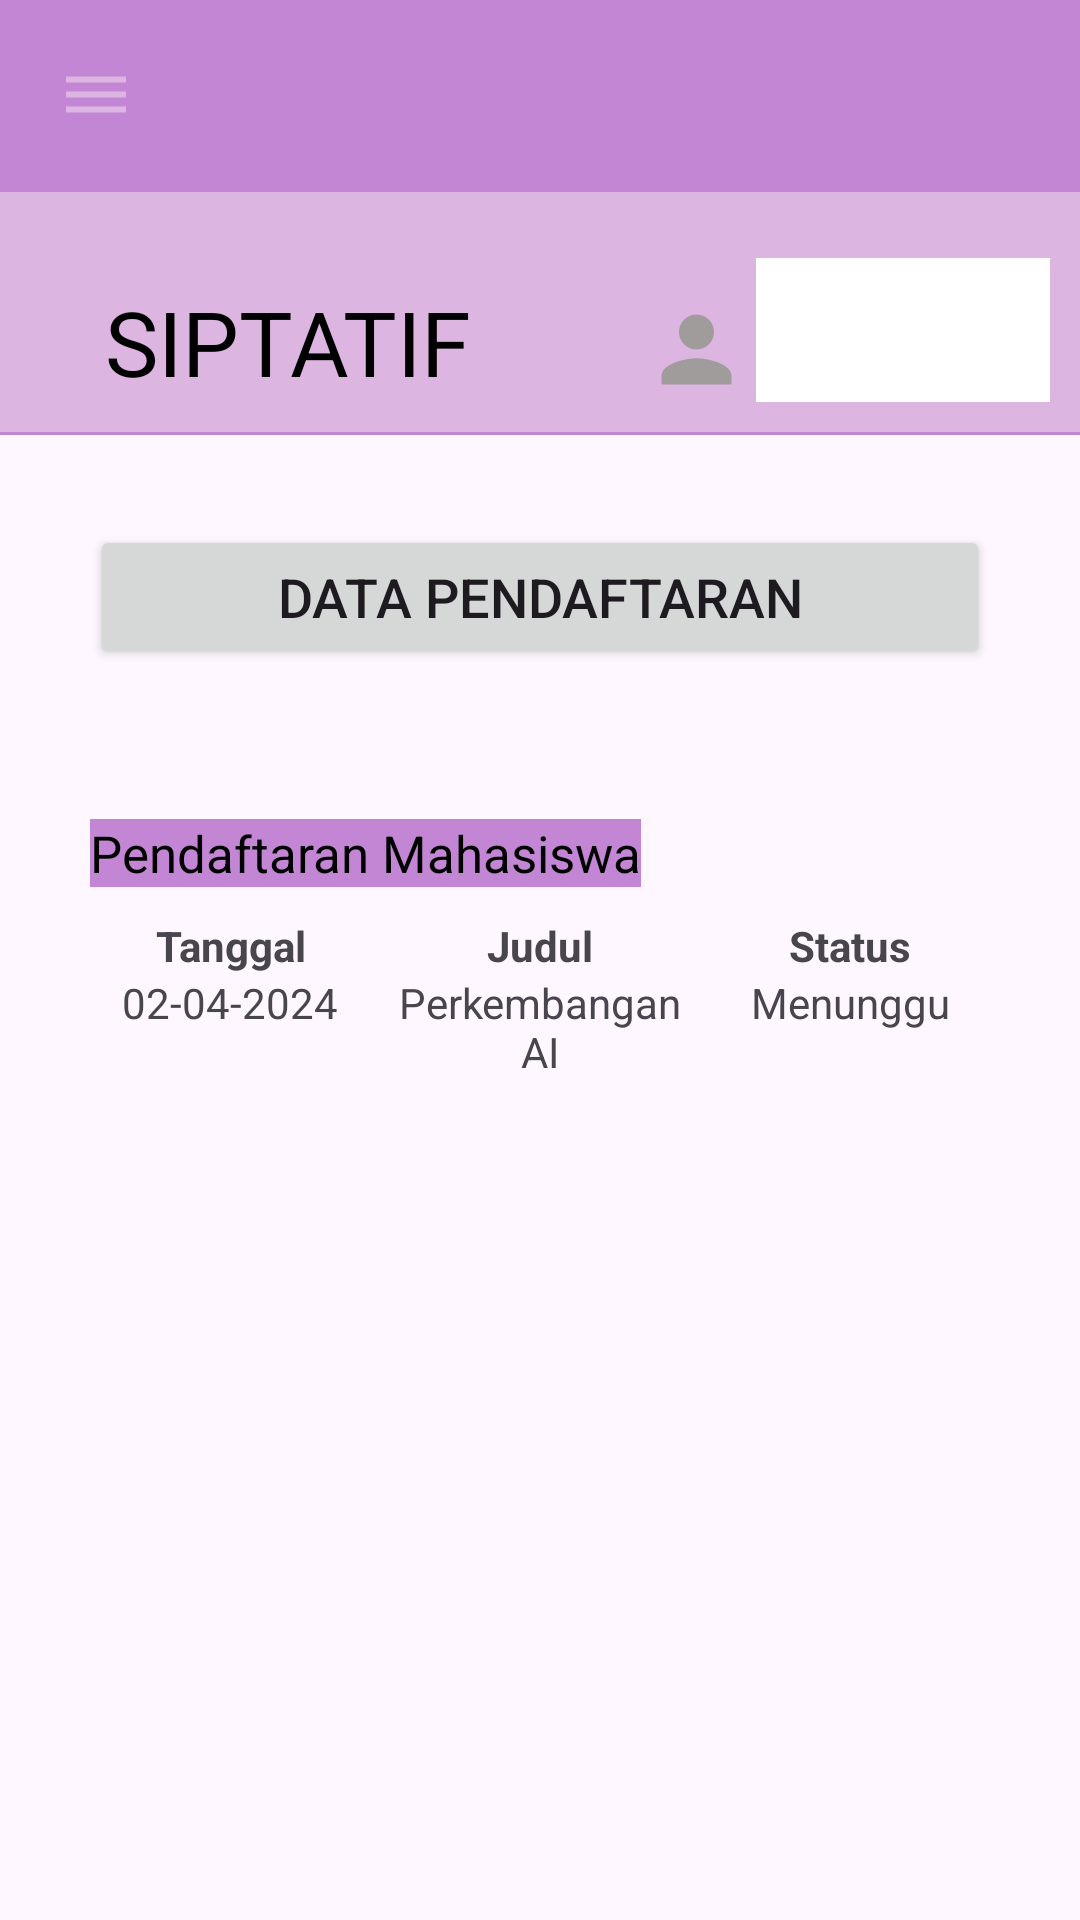

Icons on this 1080 × 1920 Android screen, each with its box as (x1, y1, x2, y2):
Menu: (66, 77, 126, 112)
Profil: (661, 314, 732, 385)
